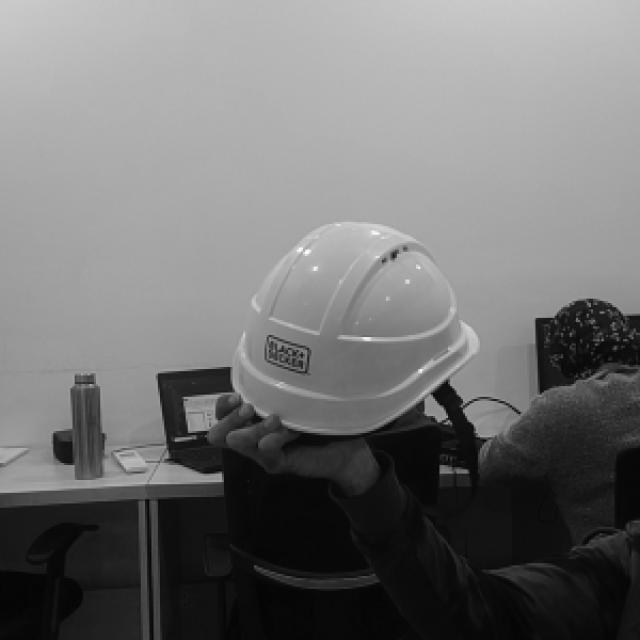safety_helmet: (228, 220, 480, 435)
